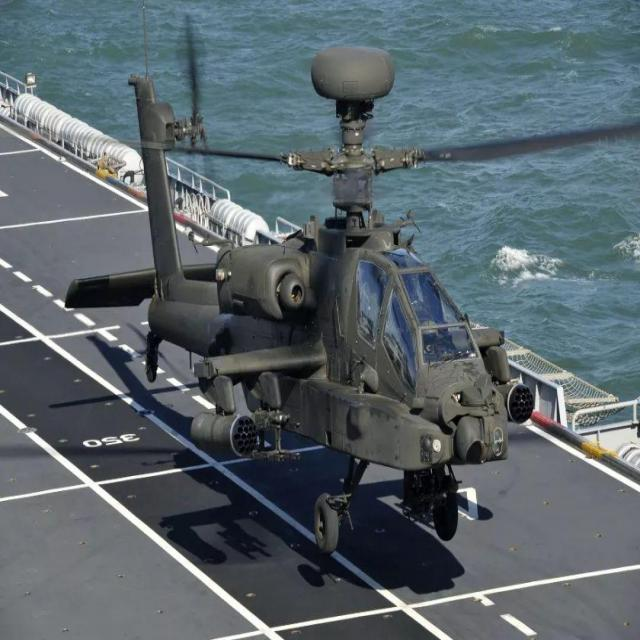MIL_HELO: (58, 43, 640, 572)
